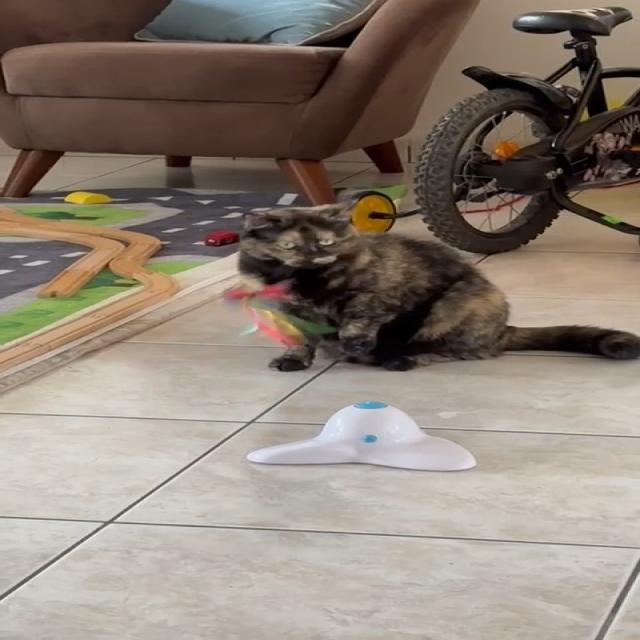authorized: (233, 194, 639, 372)
